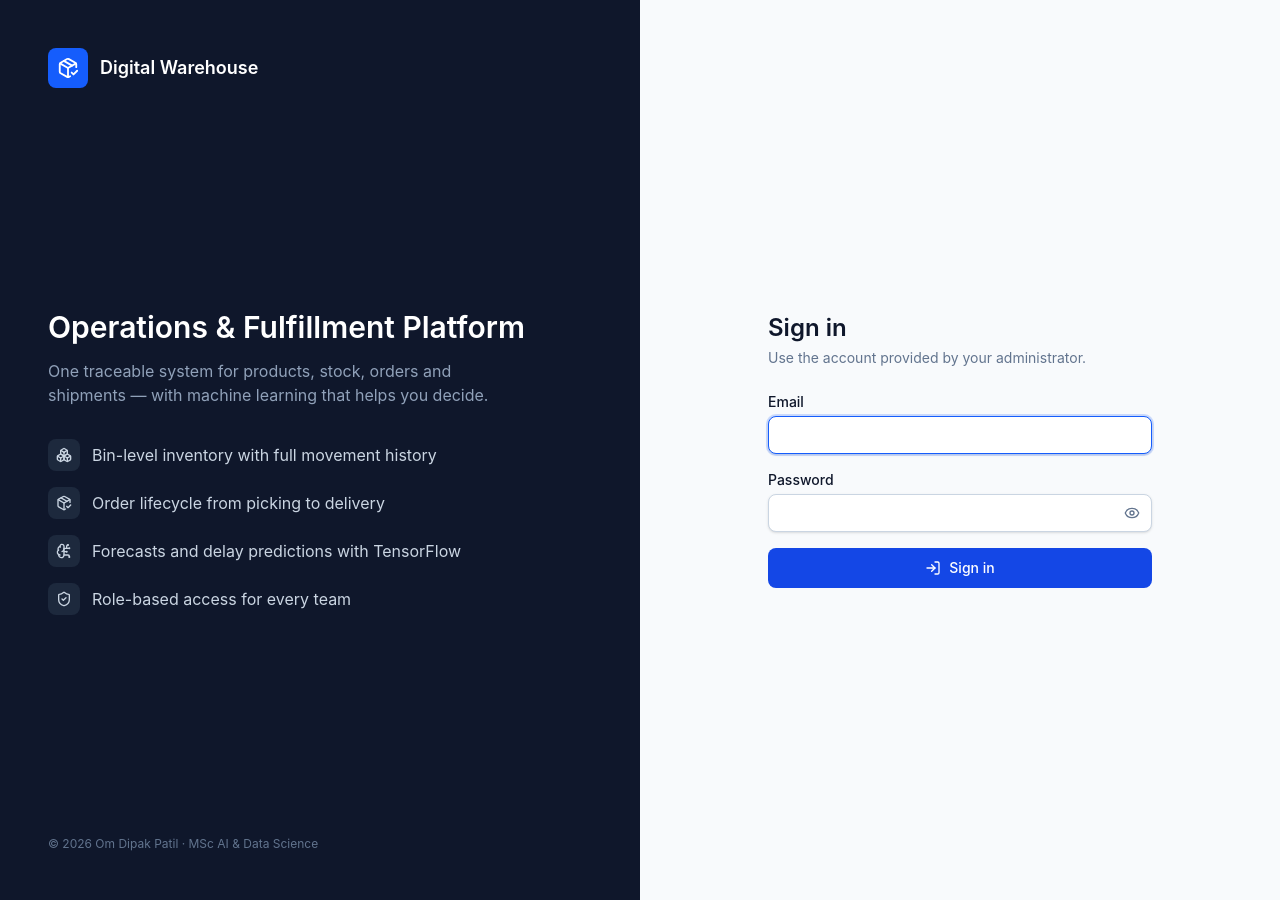
Test: logging in and out › logs out, and the next login starts on the dashboard
Type "manager@example.com" into the field labelled "Email" at [960, 435], box [768, 416, 1152, 454]
Type "Demo-pass-123" into the password field labelled "Password" at [960, 513], box [768, 494, 1152, 532]
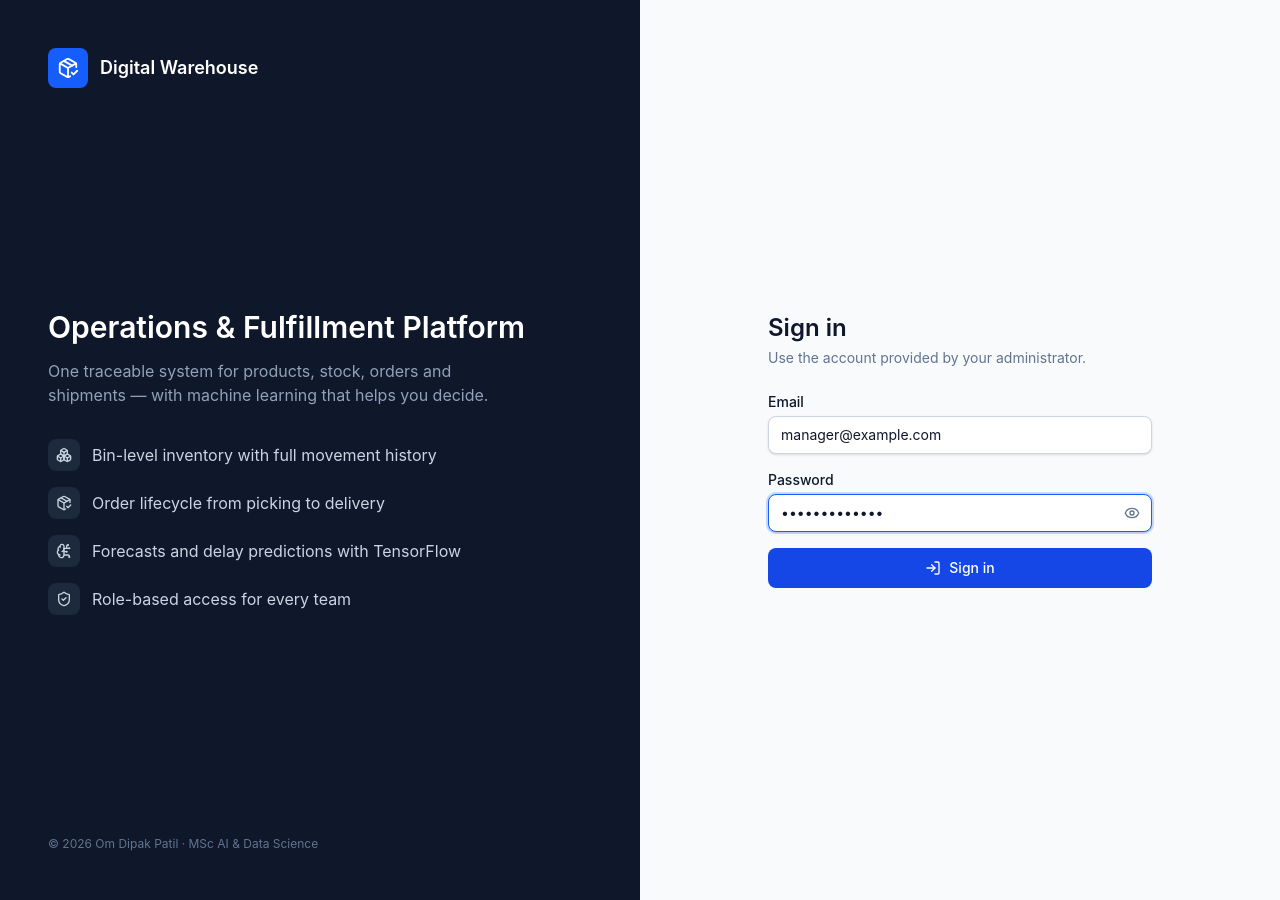
Click the button "Sign in" at [960, 568], box [768, 548, 1152, 588]
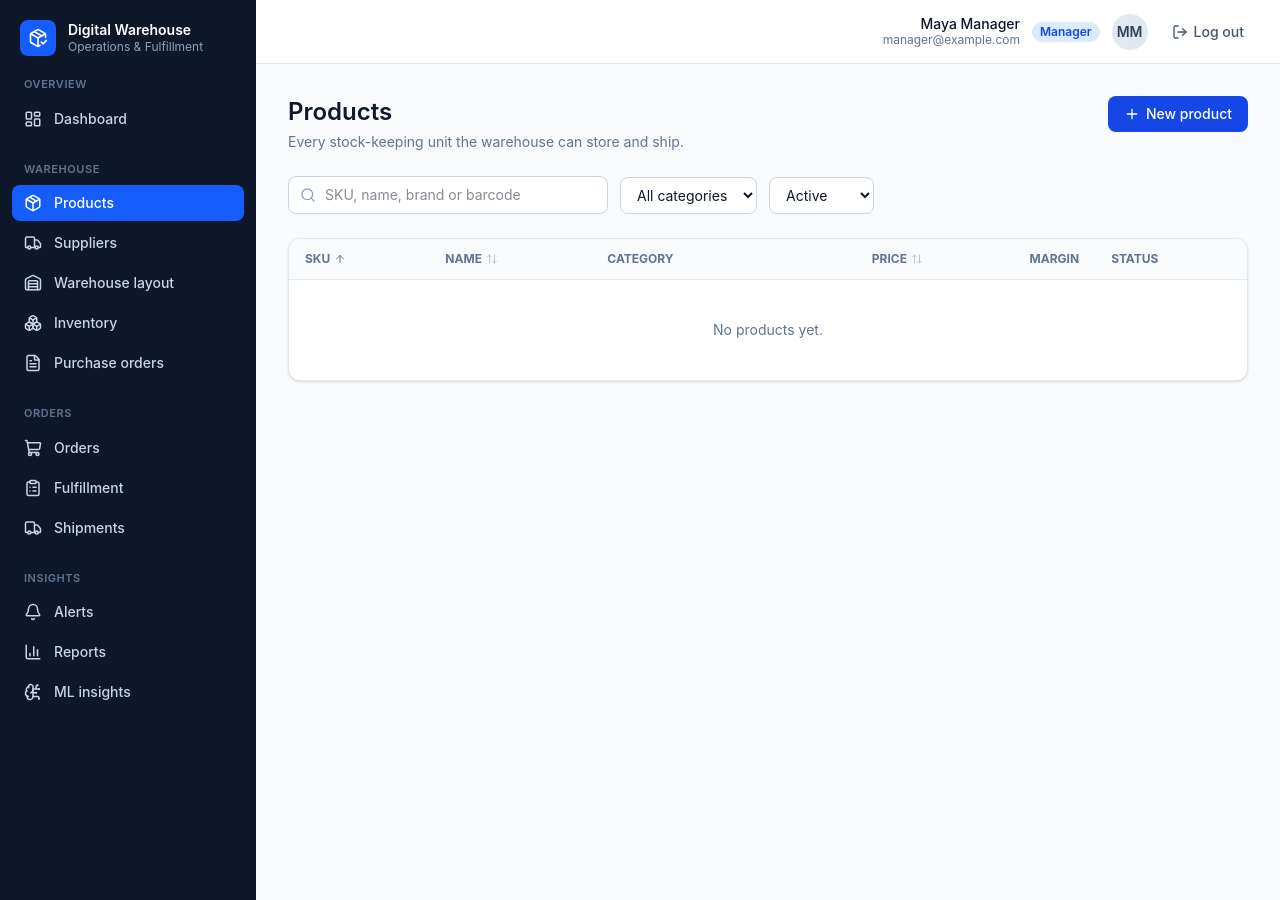
Check: the heading "Products" is shown, box [288, 97, 392, 126]
Click the button "Log out" at [1208, 32], box [1160, 14, 1256, 50]
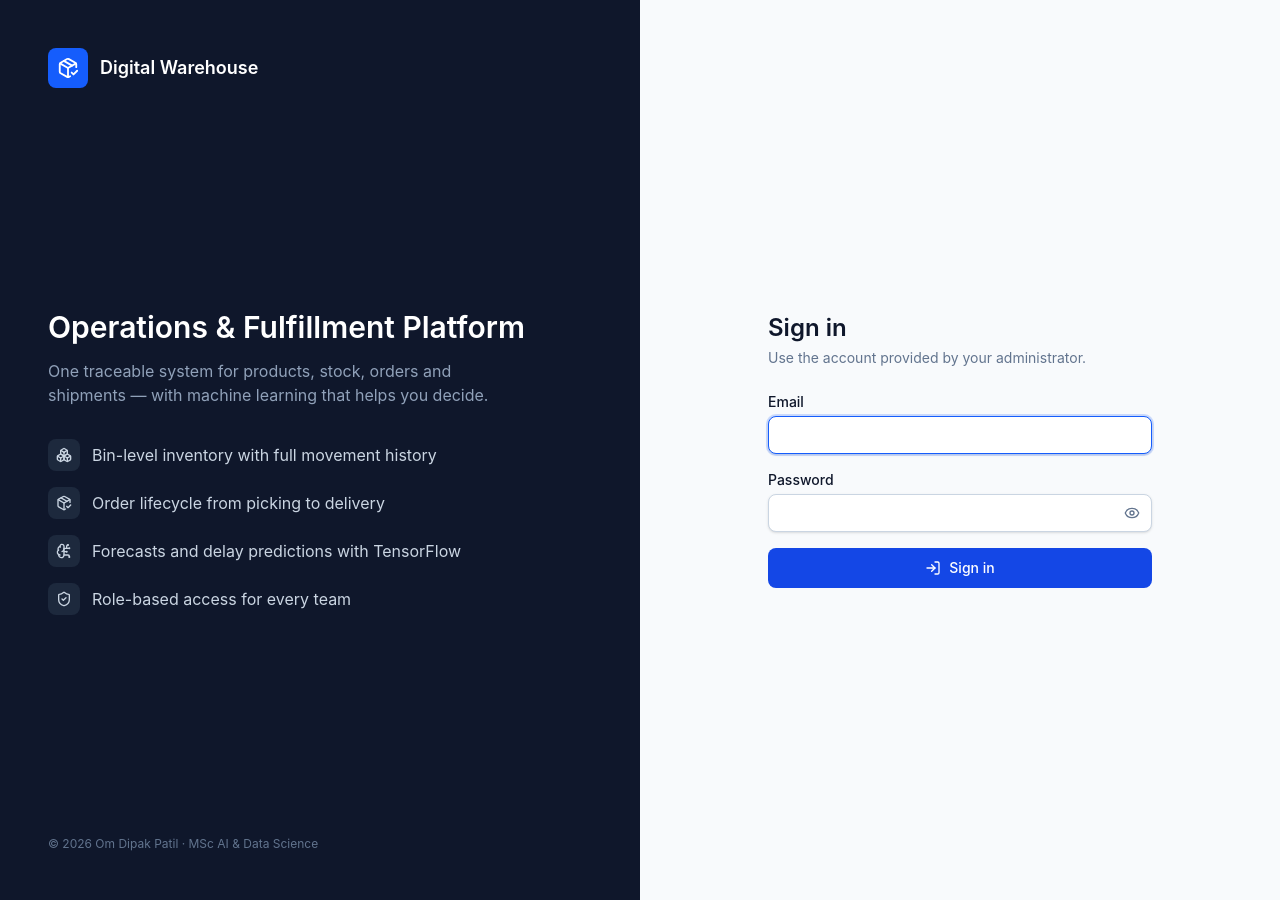
Check: the heading "Sign in" is shown, box [768, 313, 847, 342]
Type "staff@example.com" into the field labelled "Email" at [960, 435], box [768, 416, 1152, 454]
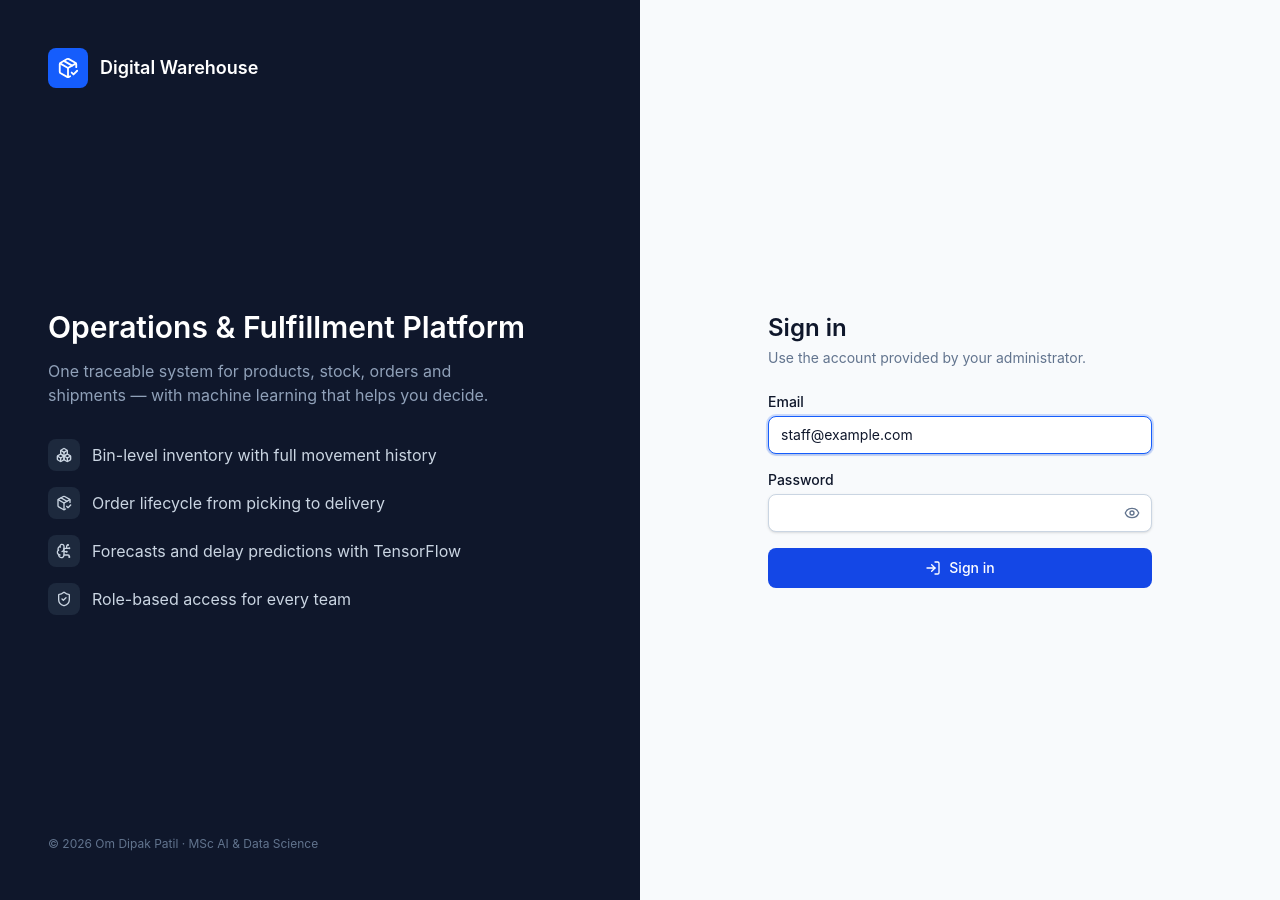
Type "Demo-pass-123" into the password field labelled "Password" at [960, 513], box [768, 494, 1152, 532]
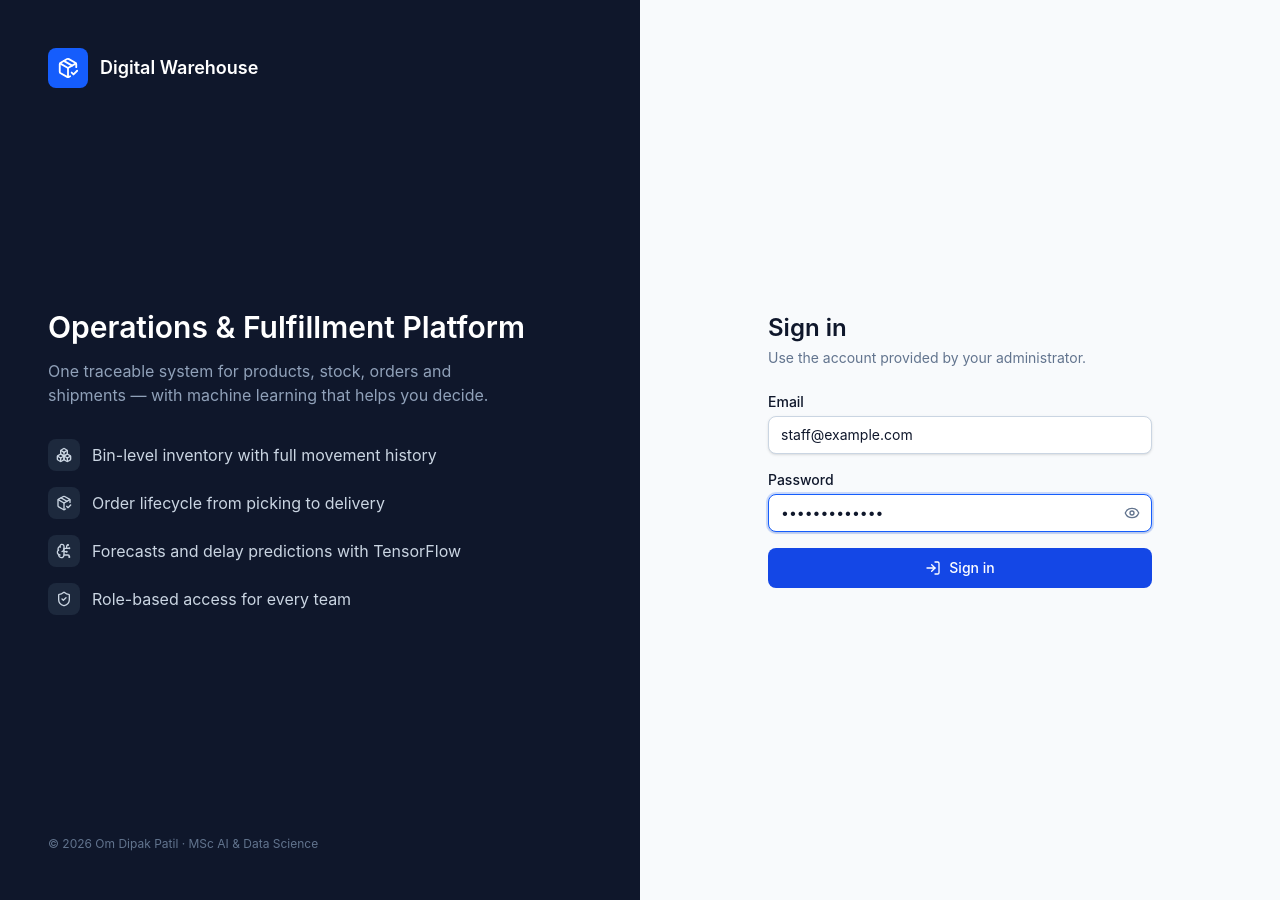
Click the button "Sign in" at [960, 568], box [768, 548, 1152, 588]
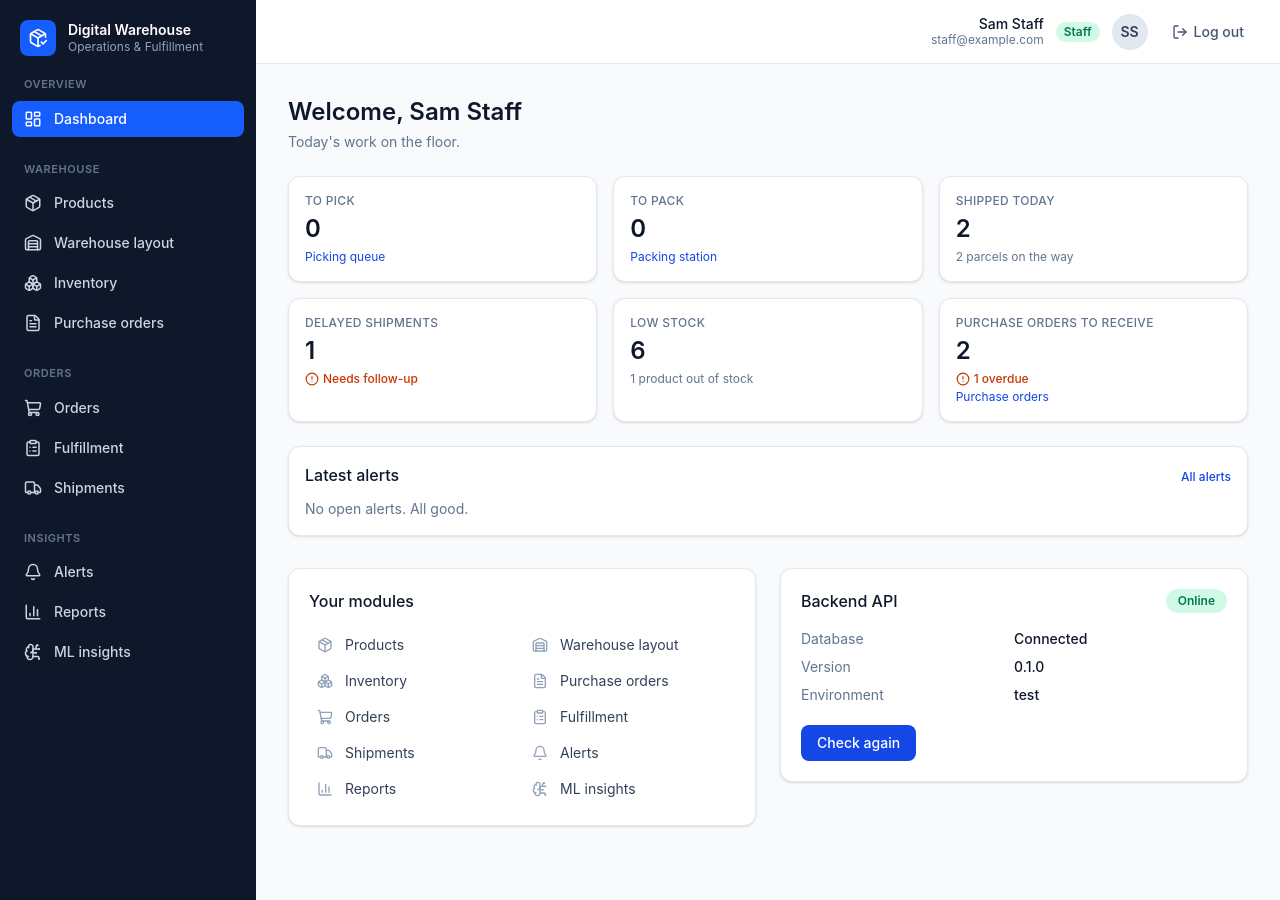
Check: the heading "Welcome, Sam Staff" is shown, box [288, 97, 522, 126]
